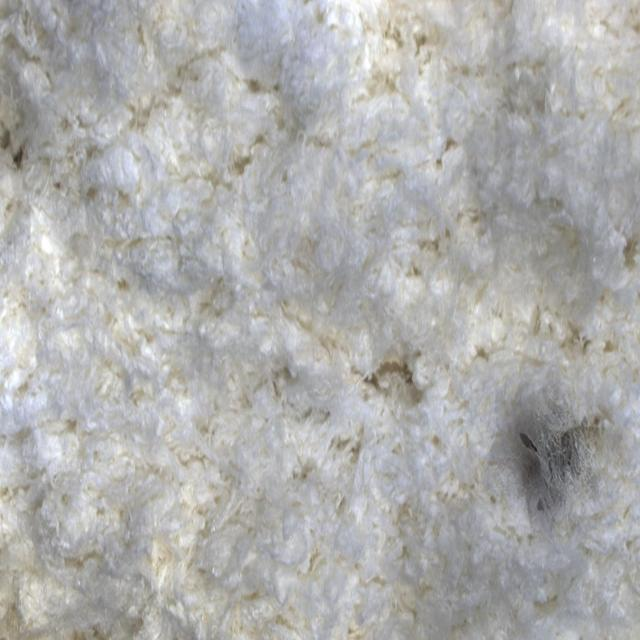dust: (422, 333, 640, 561)
